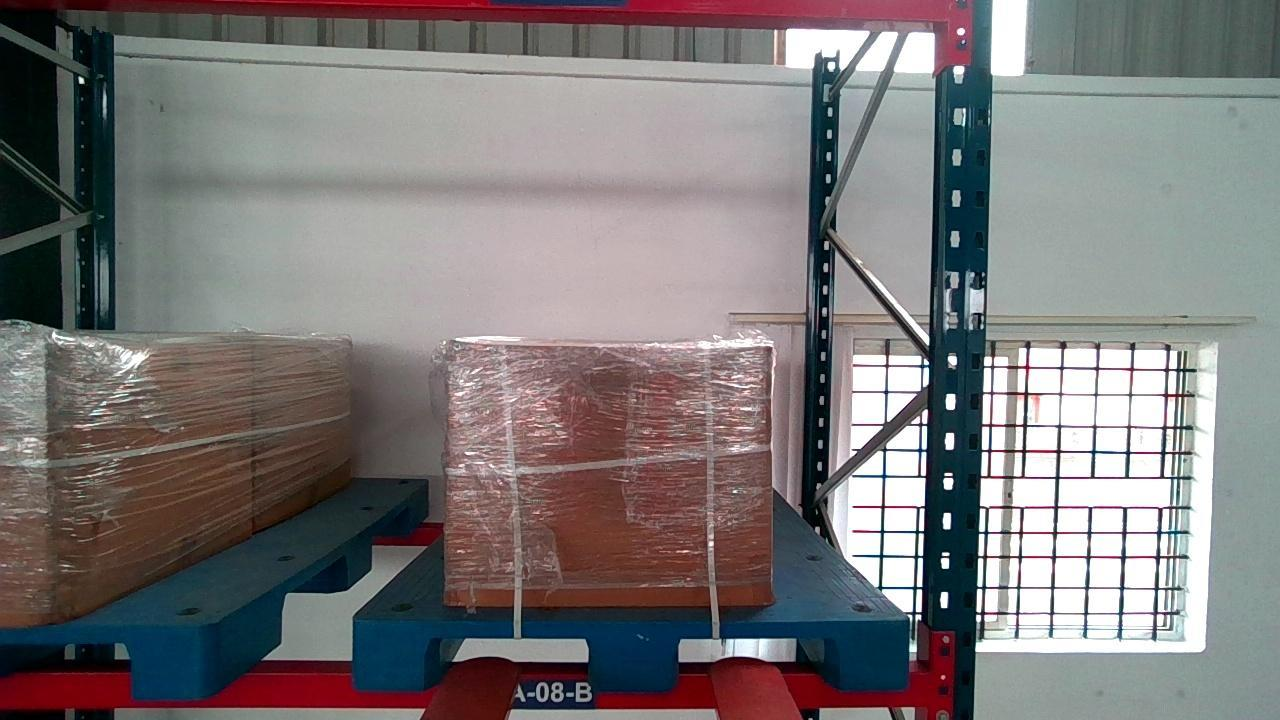h_rack: (0, 668, 926, 704)
small_pallet: (351, 616, 909, 688)
